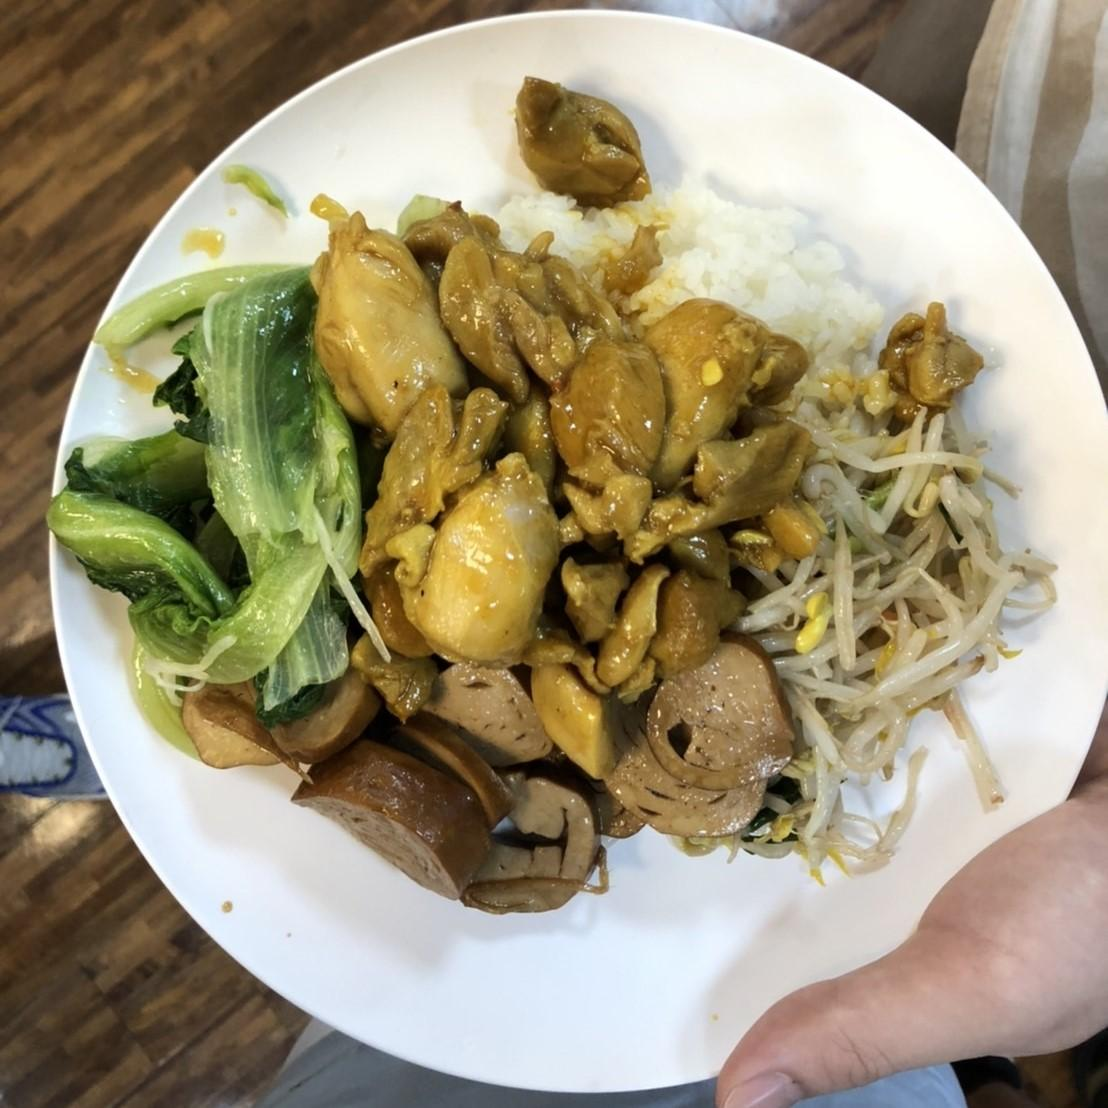big fried chicken leg: (41, 20, 1108, 1107)
big herbal chicken leg: (493, 176, 877, 416)
braised fish fillet: (172, 648, 795, 899), (766, 378, 1051, 870), (55, 240, 364, 691)
braised pork: (321, 198, 801, 765)
